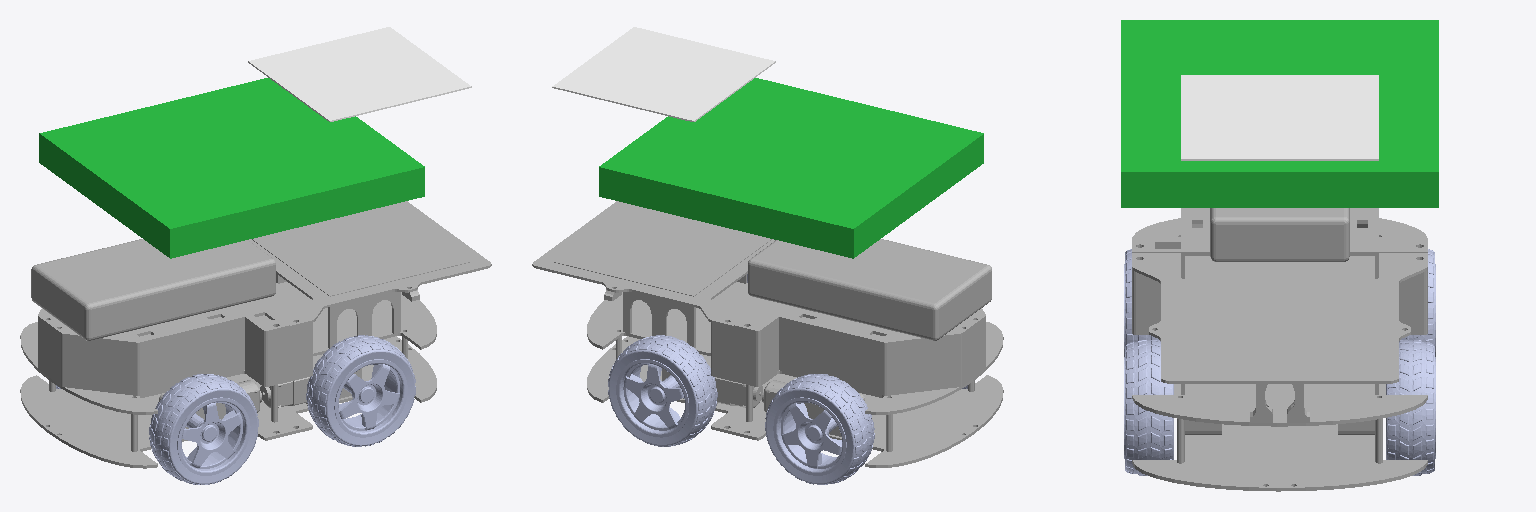
URDF robot description (car2_apriltag):
<?xml version="1.0"?>
<robot name="car2_apriltag">
  <material name="tag_white"><color rgba="1 1 1 1" /></material>
  <material name="cart_body"><color rgba="0.75294 0.75294 0.75294 0.35" /></material>
  <material name="wheel_light"><color rgba="0.79216 0.81961 0.93333 1" /></material>
  <material name="delivery_green"><color rgba="0.2 0.8 0.3 0.7" /></material>

  <link name="tag_carrito2">
    <visual name="apriltag_plate">
      <geometry><box size="0.10 0.10 0.001" /></geometry>
      <material name="tag_white" />
    </visual>
    <collision name="apriltag_collision">
      <geometry><box size="0.10 0.10 0.001" /></geometry>
    </collision>
  </link>

  <joint name="tag_carrito2_to_car2_base" type="fixed">
    <parent link="tag_carrito2" />
    <child link="car2_base_link" />
    <origin xyz="0.00 0.00 -0.12" rpy="0 0 0" />
  </joint>

  <link name="car2_base_link">
    <inertial>
      <origin xyz="-0.114018971629912 -0.0178599760362418 -0.0000210435080845" rpy="0 0 0" />
      <mass value="0.576318693040092" />
      <inertia ixx="0.000483205186547504" ixy="0.0000005617231984" ixz="0.0000005396464100" iyy="0.00171521897407484" iyz="0.0" izz="0.00127699776286583" />
    </inertial>
    <visual>
      <geometry><mesh filename="package://burger_description/visual/Carro4/meshes/base_link.STL" /></geometry>
      <material name="cart_body" />
    </visual>
    <collision>
      <origin xyz="-0.09 0 -0.03" rpy="0 0 0" />
      <geometry><box size="0.32 0.20 0.12" /></geometry>
    </collision>
  </link>

  <joint name="car2_wheel1" type="continuous">
    <origin xyz="-0.148 0.07825 -0.05835" rpy="-1.5708 0.042481 0" />
    <parent link="car2_base_link" />
    <child link="car2_wheel1_link" />
    <axis xyz="0 0 1" />
    <limit effort="5" velocity="20" />
    <dynamics damping="0.1" friction="0.1" />
  </joint>
  <link name="car2_wheel1_link">
    <visual><geometry><mesh filename="package://burger_description/visual/Carro4/meshes/wheel1.STL" /></geometry><material name="wheel_light" /></visual>
    <collision><geometry><mesh filename="package://burger_description/visual/Carro4/meshes/wheel1.STL" /></geometry></collision>
    <inertial><mass value="0.0214032" /><inertia ixx="0.0000086275" ixy="0.0" ixz="0.0" iyy="0.0000086271" iyz="0.0" izz="0.0000145141" /></inertial>
  </link>

  <joint name="car2_wheel2" type="continuous">
    <origin xyz="-0.037 0.07825 -0.05835" rpy="1.5708 -0.042481 3.1416" />
    <parent link="car2_base_link" />
    <child link="car2_wheel2_link" />
    <axis xyz="0 0 1" />
    <limit effort="5" velocity="20" />
    <dynamics damping="0.1" friction="0.1" />
  </joint>
  <link name="car2_wheel2_link">
    <visual><geometry><mesh filename="package://burger_description/visual/Carro4/meshes/wheel2.STL" /></geometry><material name="wheel_light" /></visual>
    <collision><geometry><mesh filename="package://burger_description/visual/Carro4/meshes/wheel2.STL" /></geometry></collision>
    <inertial><mass value="0.0214032" /><inertia ixx="0.0000086275" ixy="0.0" ixz="0.0" iyy="0.0000086271" iyz="0.0" izz="0.0000145141" /></inertial>
  </link>

  <joint name="car2_wheel3" type="continuous">
    <origin xyz="-0.037 -0.07825 -0.05835" rpy="-1.5708 0.042481 -3.1416" />
    <parent link="car2_base_link" />
    <child link="car2_wheel3_link" />
    <axis xyz="0 0 1" />
    <limit effort="5" velocity="20" />
    <dynamics damping="0.1" friction="0.1" />
  </joint>
  <link name="car2_wheel3_link">
    <visual><geometry><mesh filename="package://burger_description/visual/Carro4/meshes/wheel3.STL" /></geometry><material name="wheel_light" /></visual>
    <collision><geometry><mesh filename="package://burger_description/visual/Carro4/meshes/wheel3.STL" /></geometry></collision>
    <inertial><mass value="0.0214032" /><inertia ixx="0.0000086275" ixy="0.0" ixz="0.0" iyy="0.0000086271" iyz="0.0" izz="0.0000145141" /></inertial>
  </link>

  <joint name="car2_wheel4" type="continuous">
    <origin xyz="-0.148 -0.07825 -0.05835" rpy="1.5708 -0.042481 0" />
    <parent link="car2_base_link" />
    <child link="car2_wheel4_link" />
    <axis xyz="0 0 1" />
    <limit effort="5" velocity="20" />
    <dynamics damping="0.1" friction="0.1" />
  </joint>
  <link name="car2_wheel4_link">
    <visual><geometry><mesh filename="package://burger_description/visual/Carro4/meshes/wheel4.STL" /></geometry><material name="wheel_light" /></visual>
    <collision><geometry><mesh filename="package://burger_description/visual/Carro4/meshes/wheel4.STL" /></geometry></collision>
    <inertial><mass value="0.0214032" /><inertia ixx="0.0000086275" ixy="0.0" ixz="0.0" iyy="0.0000086271" iyz="0.0" izz="0.0000145141" /></inertial>
  </link>

  <joint name="car2_base_to_delivery_tray" type="fixed">
    <parent link="car2_base_link" />
    <child link="car2_delivery_tray_frame" />
    <origin xyz="-0.09 0.00 0.08" rpy="0 0 0" />
  </joint>
  <link name="car2_delivery_tray_frame">
    <visual><geometry><box size="0.18 0.16 0.02" /></geometry><material name="delivery_green" /></visual>
    <collision><geometry><box size="0.18 0.16 0.02" /></geometry></collision>
    <inertial><mass value="0.05" /><inertia ixx="0.0001083" ixy="0.0" ixz="0.0" iyy="0.0001417" iyz="0.0" izz="0.0002417" /></inertial>
  </link>
</robot>

--- Facts derived from the render (not from the file) ---
3 views of the same robot in one strip: view 1: azimuth 30°, elevation 25°; view 2: azimuth 150°, elevation 25°; view 3: azimuth 270°, elevation 25° (orthographic).
Robot: car2_apriltag — 7 links, 6 joints (4 continuous, 2 fixed); root link tag_carrito2; default pose: all joints at 0.
Visible links, largest first — view 1: car2_base_link, car2_delivery_tray_frame, tag_carrito2, car2_wheel4_link, car2_wheel3_link; view 2: car2_base_link, car2_delivery_tray_frame, tag_carrito2, car2_wheel2_link, car2_wheel1_link; view 3: car2_base_link, car2_delivery_tray_frame, tag_carrito2, car2_wheel3_link, car2_wheel2_link, car2_wheel1_link, car2_wheel4_link.
Link boxes in pixels (x1,y1,x2,y2): car2_base_link: [20, 201, 491, 468]; car2_delivery_tray_frame: [39, 78, 424, 258]; tag_carrito2: [248, 27, 471, 121]; car2_wheel4_link: [149, 374, 258, 484]; car2_wheel3_link: [306, 335, 415, 446]; car2_base_link: [532, 201, 1003, 467]; car2_delivery_tray_frame: [599, 78, 983, 258]; tag_carrito2: [552, 27, 775, 121]; car2_wheel2_link: [608, 335, 717, 446]; car2_wheel1_link: [765, 374, 874, 484]; car2_base_link: [1132, 208, 1427, 491]; car2_delivery_tray_frame: [1121, 20, 1438, 207]; tag_carrito2: [1181, 75, 1378, 160]; car2_wheel3_link: [1124, 340, 1173, 475]; car2_wheel2_link: [1386, 340, 1435, 475]; car2_wheel1_link: [1399, 249, 1435, 356]; car2_wheel4_link: [1124, 249, 1160, 356].
Bounding box of the posed robot: 0.2789 × 0.16 × 0.2133 m (x, y, z).
5 mesh visuals loaded from 5 distinct referenced files (5 binary STL).
